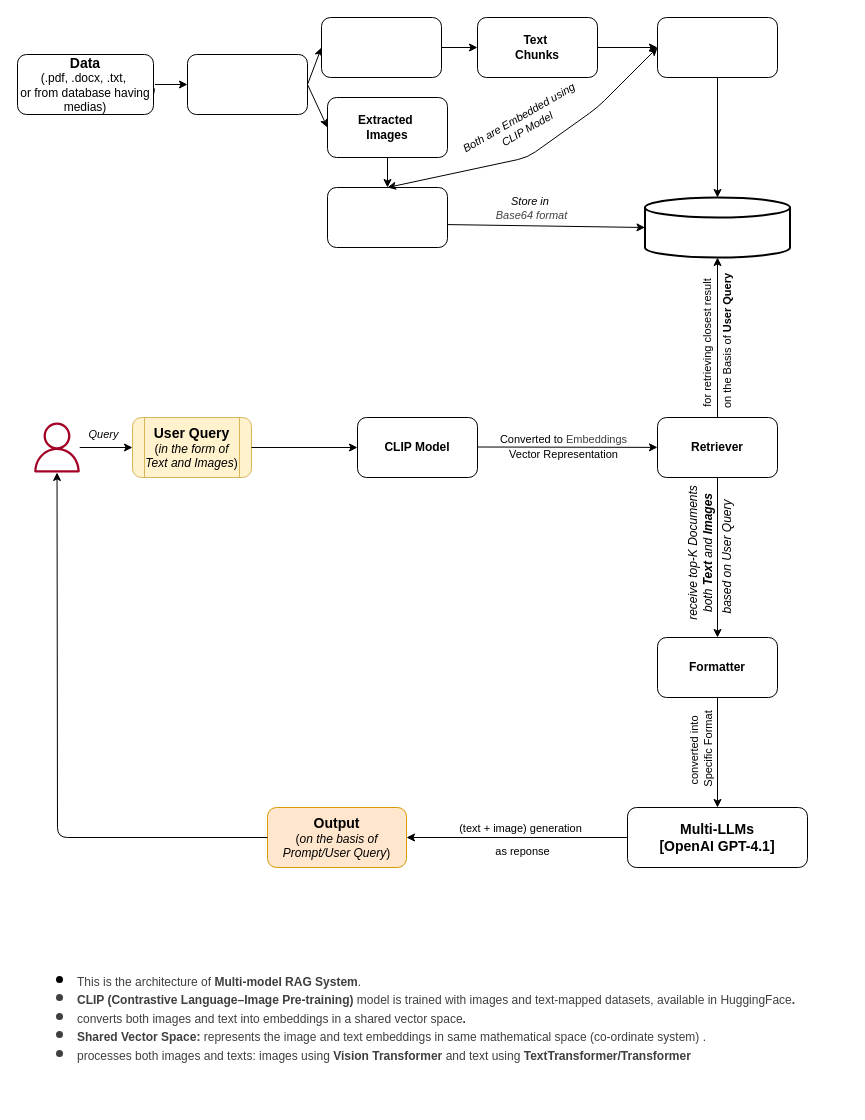
Some shapes in this 865 by 1120 pixel diagram are drawn without their labels. Here are the shapes that lost their labels. From the top down, the centre of each, then its label:
At pixel 381 47: "Extracted Text".
At pixel 717 47: "Text Embeddings (Using CLIP)".
At pixel 247 84: "Extract Images & Text".
At pixel 387 217: "Image Embedding (Using CLIP)".
At pixel 717 227: "Knowledge Base (FAISS Vector Database)".
